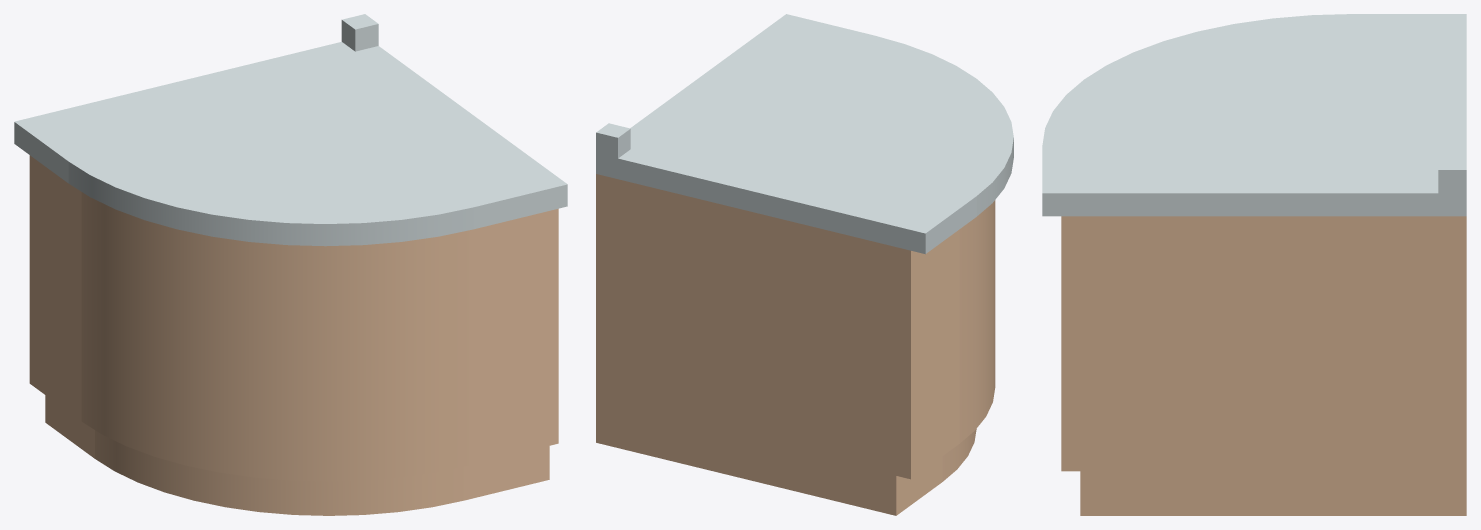
The model's file is kitchenCabinetCornerRound-col.glb.
3 renders of one model, left to right at view 1: azimuth 30°, elevation 25°; view 2: azimuth 150°, elevation 25°; view 3: azimuth 270°, elevation 25°, orthographic. The views are drawn at different scales.
Visible parts, largest first — view 1: kitchenCabinetCornerRound-col; view 2: kitchenCabinetCornerRound-col; view 3: kitchenCabinetCornerRound-col.
Boxes of the visible parts, x1=… form: kitchenCabinetCornerRound-col: x1=14, y1=14, x2=567, y2=515; kitchenCabinetCornerRound-col: x1=596, y1=14, x2=1013, y2=515; kitchenCabinetCornerRound-col: x1=1042, y1=14, x2=1466, y2=515.
Bounding box in the file's own units: 0.5 × 0.45 × 0.5.
